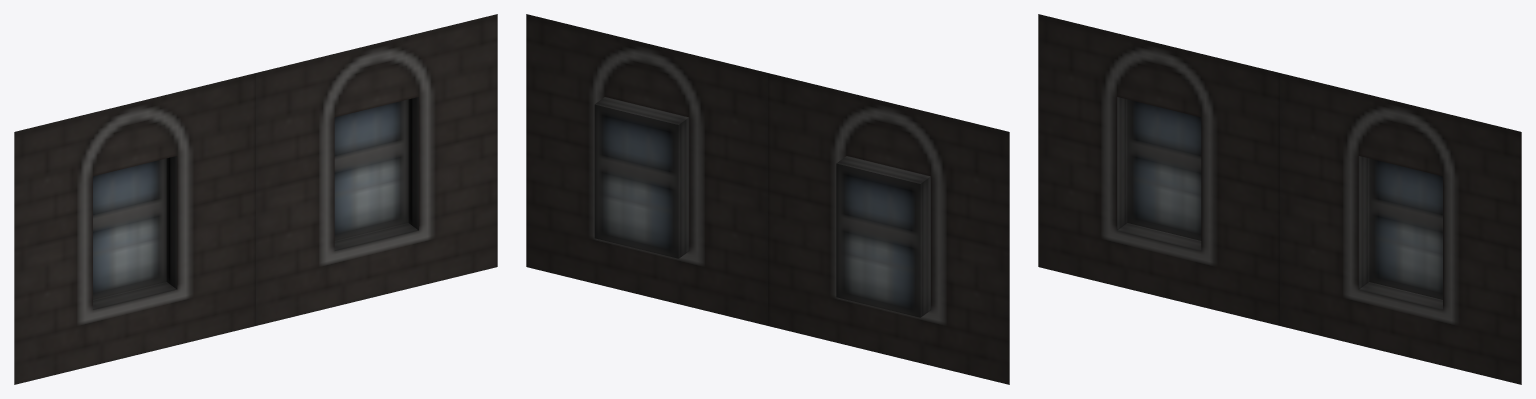
Rendered from B11_WindowLow2x.FBX.
3 views of the same model, side by side, from view 1: azimuth 30°, elevation 25°; view 2: azimuth 150°, elevation 25°; view 3: azimuth 330°, elevation 25° (orthographic).
Parts seen in each view (by area): view 1: B11_WindowLow2x; view 2: B11_WindowLow2x; view 3: B11_WindowLow2x.
Part boxes in pixels (left/top/right/bottom): B11_WindowLow2x: left=14, top=14, right=497, bottom=384; B11_WindowLow2x: left=526, top=14, right=1009, bottom=384; B11_WindowLow2x: left=1038, top=14, right=1521, bottom=384.
Bounding box in the file's own units: 8 × 4 × 0.2997.
